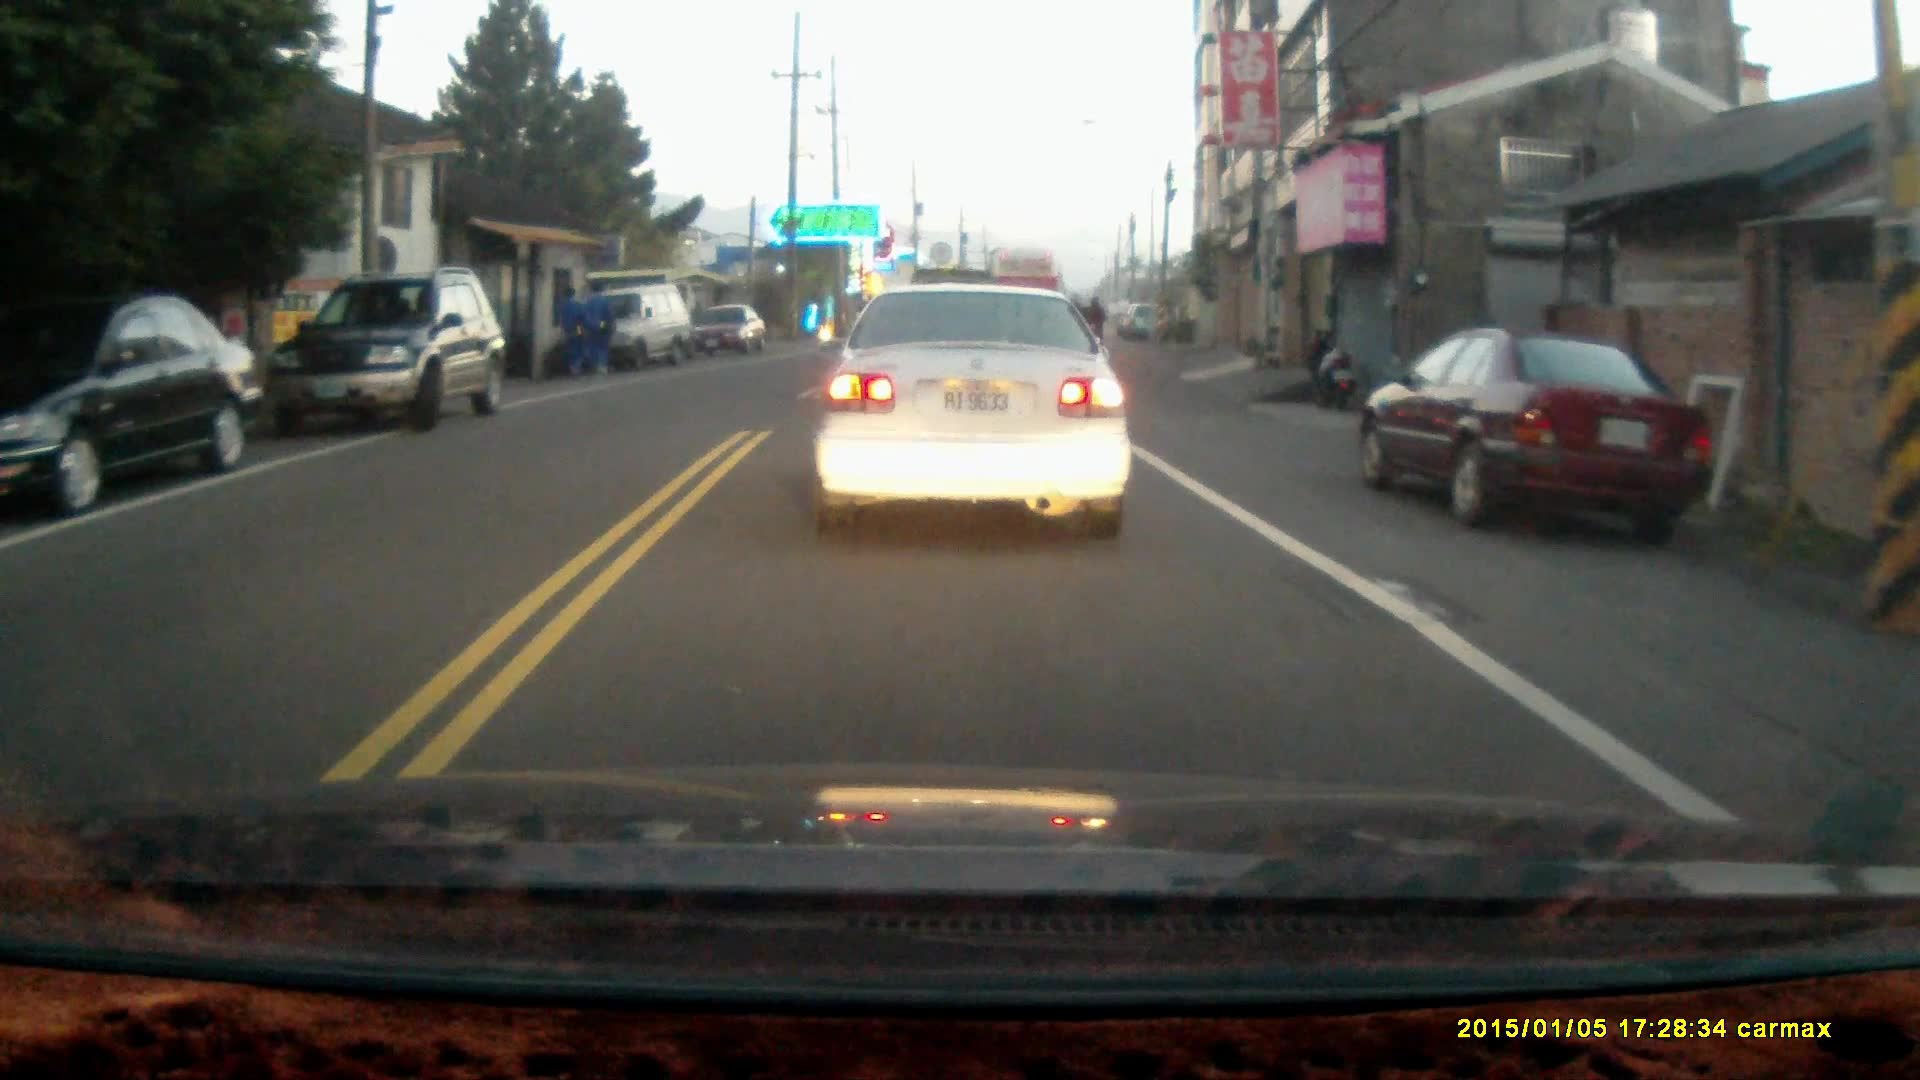pedestrian: (552, 283, 585, 384), (582, 277, 612, 379)
vehicle: (814, 278, 1128, 541), (1357, 329, 1715, 546), (1, 295, 263, 515), (251, 268, 507, 435), (584, 283, 707, 369), (684, 306, 766, 360)
